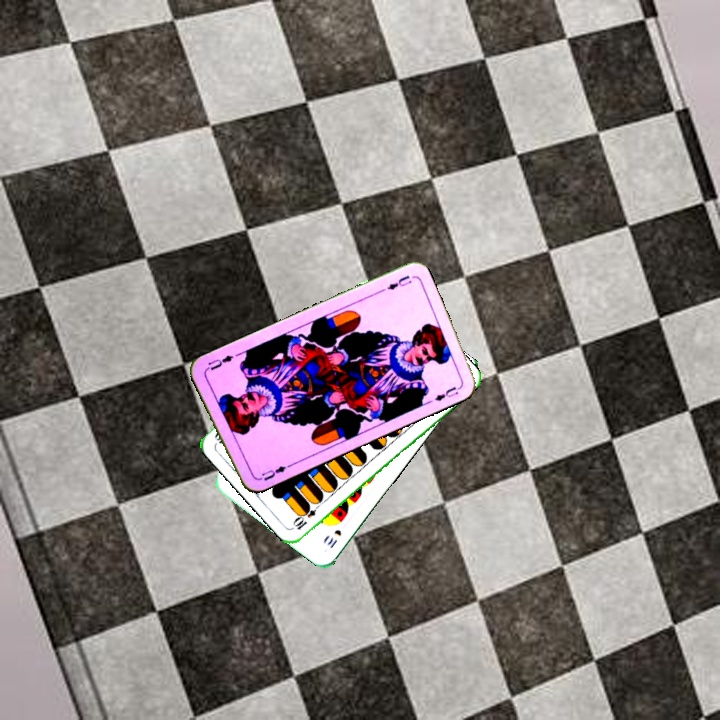E10: (289, 498, 324, 532)
EU: (253, 461, 292, 483), (383, 271, 414, 292)
S10: (323, 525, 344, 551)
